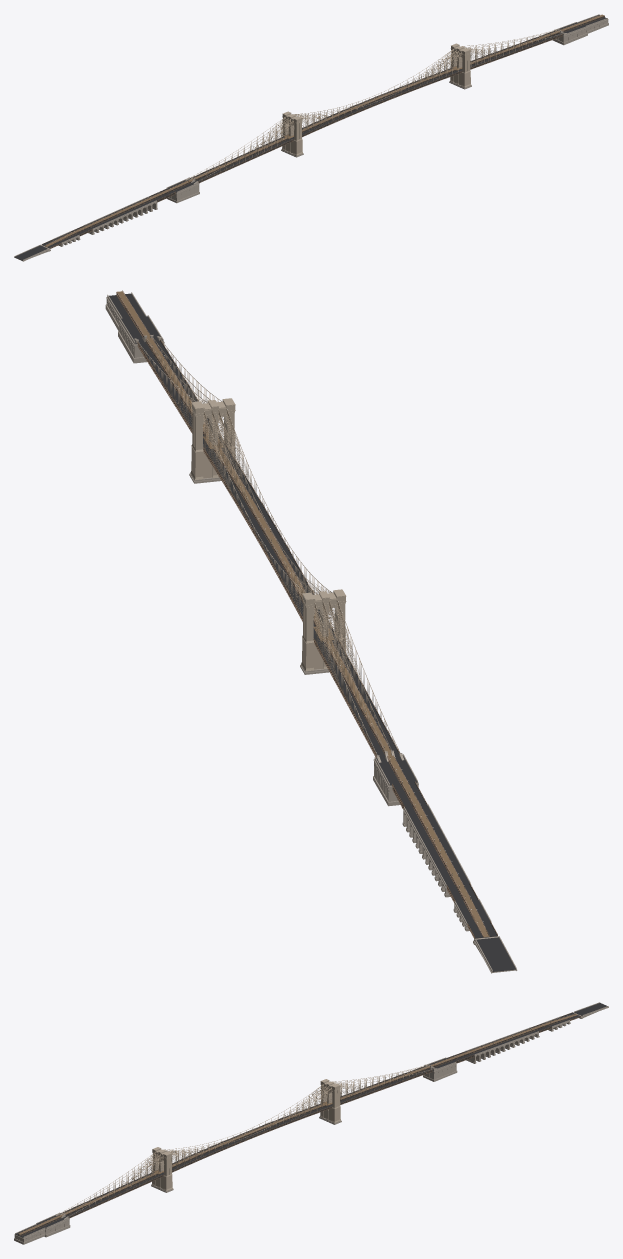
Rendered from brooklyn-bridge.glb.
3 renders of one model, top to bottom at view 1: azimuth 90°, elevation 25°; view 2: azimuth 150°, elevation 25°; view 3: azimuth 270°, elevation 25°, orthographic. The views are drawn at different scales.
Visible parts, largest first — view 1: brooklyn-bridge; view 2: brooklyn-bridge; view 3: brooklyn-bridge.
Part boxes in pixels (x1=…): brooklyn-bridge: x1=14, y1=14, x2=608, y2=261; brooklyn-bridge: x1=105, y1=290, x2=517, y2=973; brooklyn-bridge: x1=14, y1=1002, x2=608, y2=1244.
Size of the model in its own units: 1192 by 85.3 by 1243.
